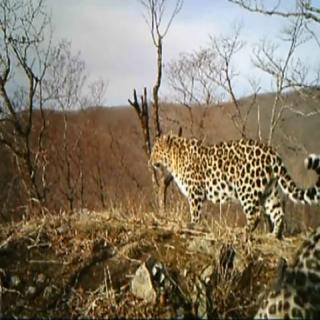Leopard: (148, 126, 320, 238)
